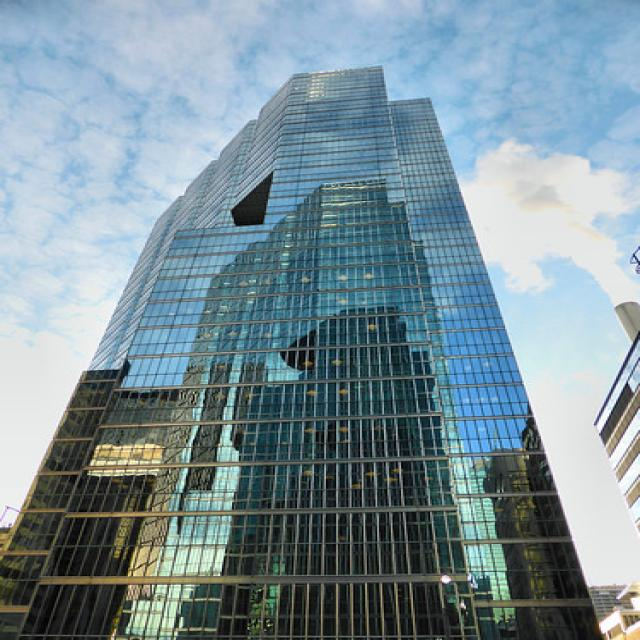building: (5, 61, 621, 640)
